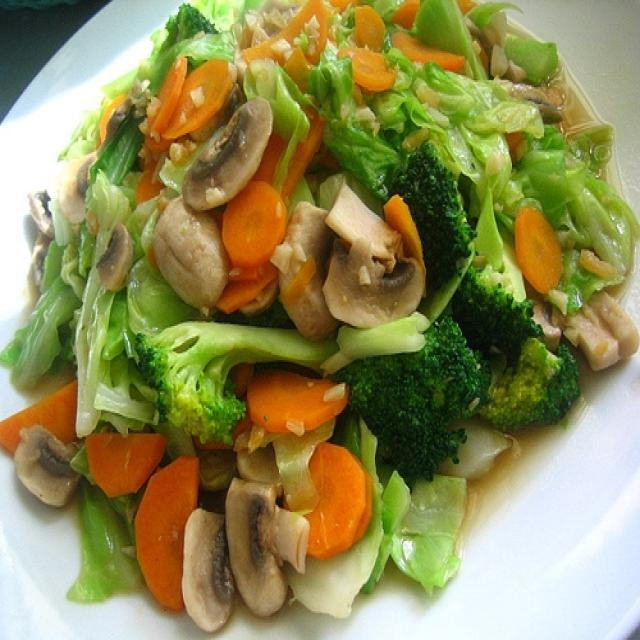蔬菜料理: (37, 29, 617, 618)
